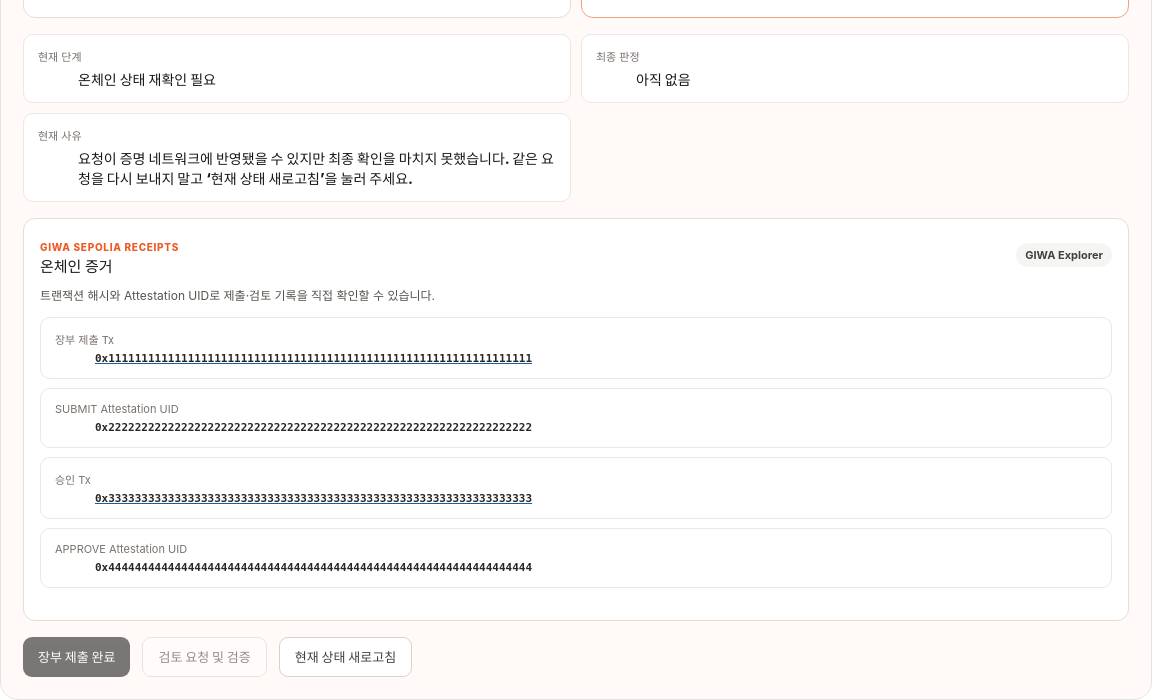
Test: SyntheticReportAttestationPanel › uses refresh reconciliation instead of the reviewer write for a confirmed review receipt
(page scrolled)
Check: the text "요청이 증명 네트워크에 반영됐을 수 있지만" is shown, box [78,150,554,187]
Check: the button "검토 요청 및 검증" is disabled, box [142,637,267,677]
Step 1. Click the button "현재 상태 새로고침" → (345, 657), box [279,637,412,677]
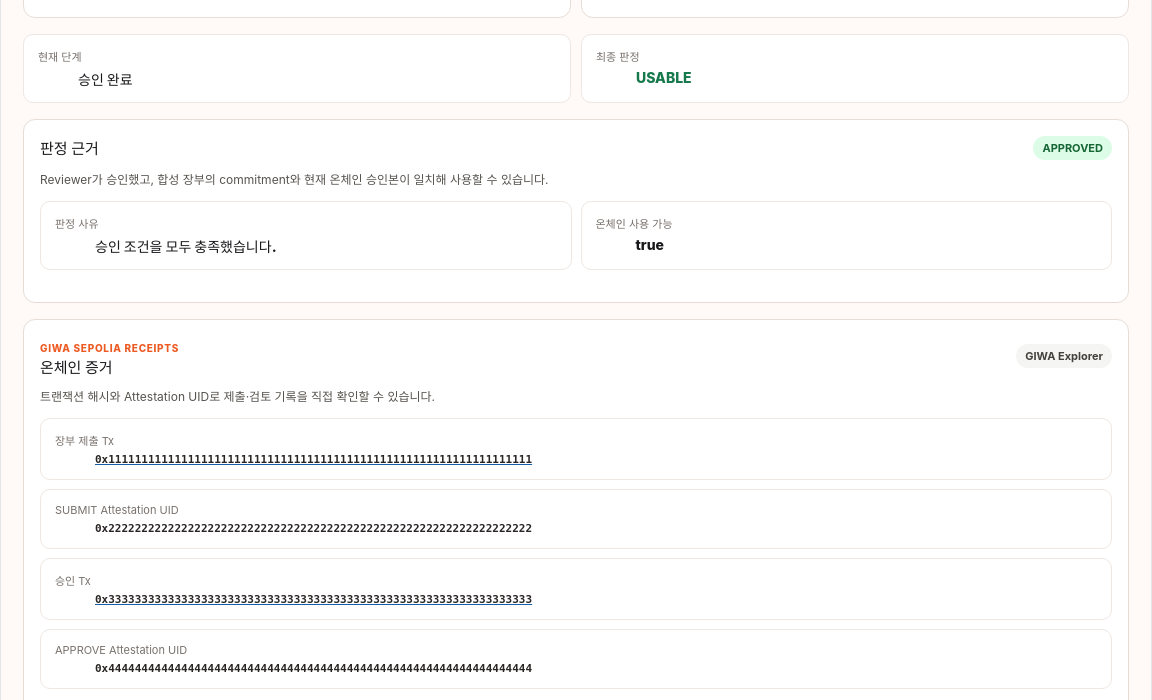
Check: the text "USABLE" is shown, box [636,69,692,86]
